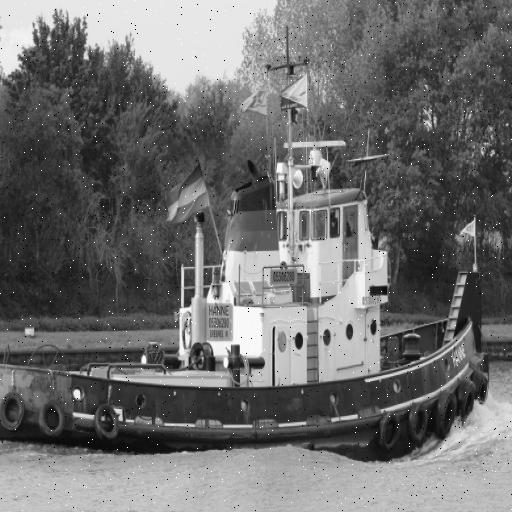tugboat: (1, 136, 495, 472)
